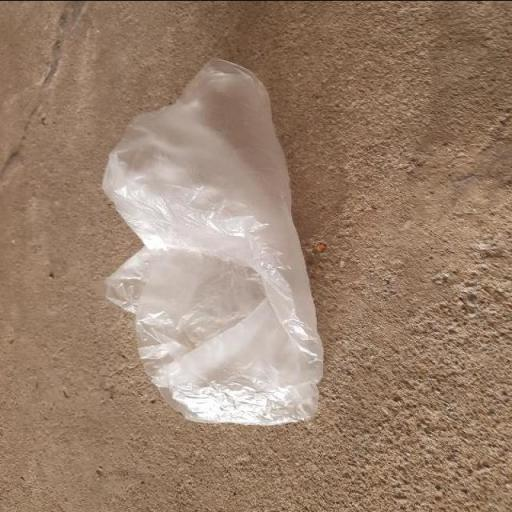plastic-bag: (96, 54, 328, 428)
